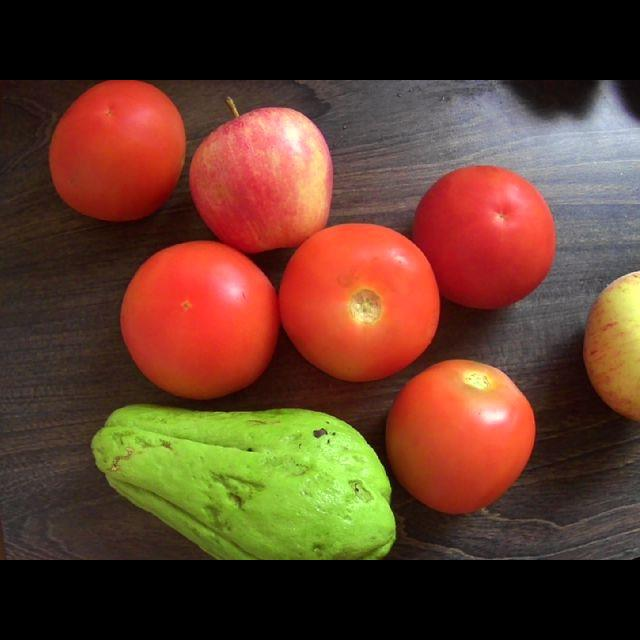chayote: (91, 404, 394, 559)
manzana: (190, 97, 332, 252), (583, 271, 639, 421)
tomate: (121, 241, 279, 399), (280, 224, 439, 379), (386, 359, 535, 513), (413, 165, 555, 308), (49, 80, 185, 221)
